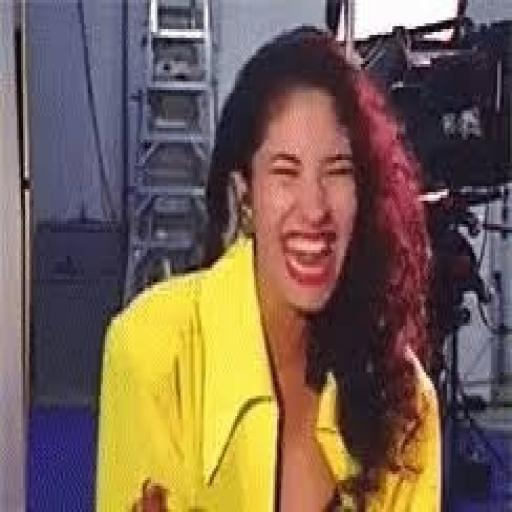laughing: (90, 23, 453, 506)
